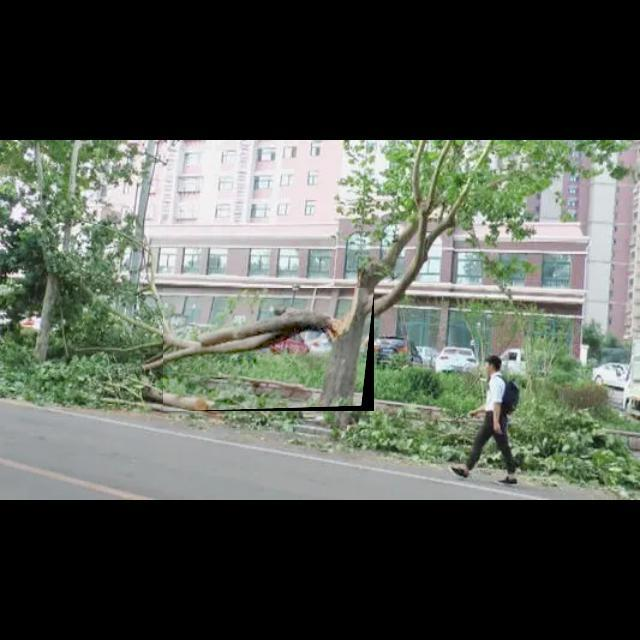fallen_tree: (163, 288, 375, 412)
